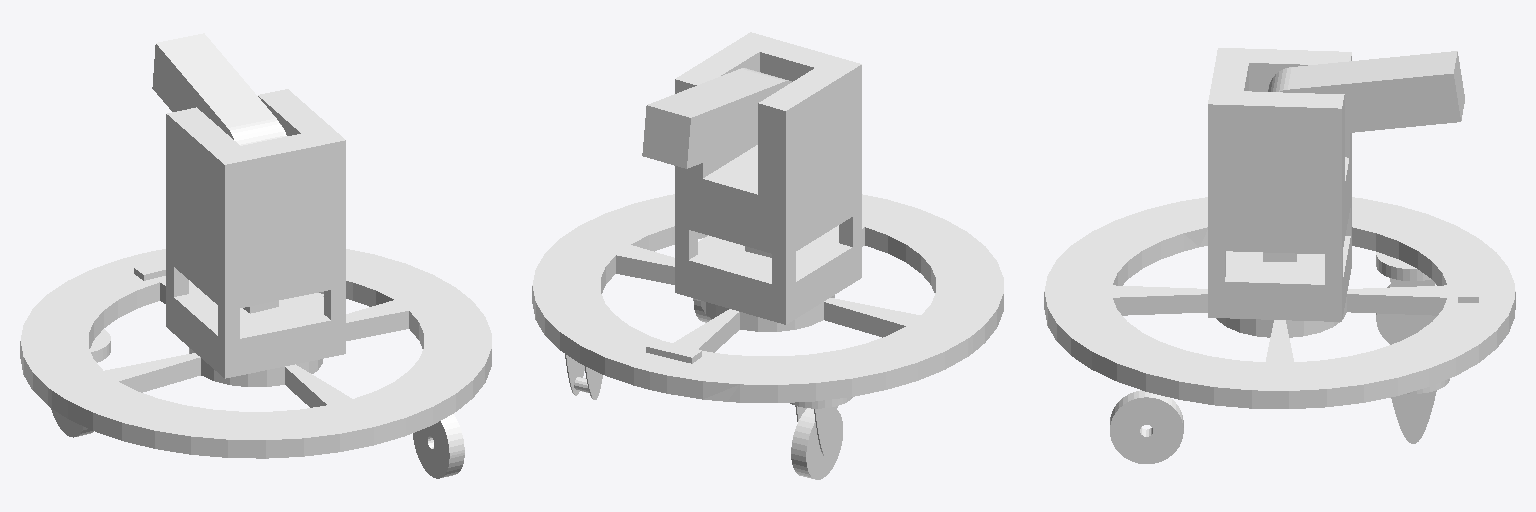
URDF robot description (simplesentry):
<?xml version="1.0" encoding="utf-8"?>
<!-- This URDF was automatically created by SolidWorks to URDF Exporter! Originally created by [author] ([email redacted]) 
     Commit Version: 1.6.0-4-g7f85cfe  Build Version: 1.6.7995.38578
     For more information, please see http://wiki.ros.org/sw_urdf_exporter -->
<robot
  name="simplesentry">
  <link
    name="base_link">
    <inertial>
      <origin
        xyz="2.3351E-07 0.00097091 0.015088"
        rpy="0 0 0" />
      <mass
        value="6.9215" />
      <inertia
        ixx="0.27562"
        ixy="3.4079E-06"
        ixz="-1.9782E-08"
        iyy="0.27371"
        iyz="-0.00013381"
        izz="0.54827" />
    </inertial>
    <visual>
      <origin
        xyz="0 0 0"
        rpy="0 0 0" />
      <geometry>
        <mesh
          filename="package://simplesentry/meshes/base_link.STL" />
      </geometry>
      <material
        name="">
        <color
          rgba="1 1 1 1" />
      </material>
    </visual>
    <collision>
      <origin
        xyz="0 0 0"
        rpy="0 0 0" />
      <geometry>
        <mesh
          filename="package://simplesentry/meshes/base_link.STL" />
      </geometry>
    </collision>
  </link>
  <link
    name="Left_Front_Heading_Link">
    <inertial>
      <origin
        xyz="1.38777878078145E-17 0.00190966111212694 4.81482348435591E-09"
        rpy="0 0 0" />
      <mass
        value="0.222633441059111" />
      <inertia
        ixx="0.000282472342479328"
        ixy="8.75872742714748E-20"
        ixz="-1.53578455491772E-11"
        iyy="0.000299326883261327"
        iyz="9.84844083127423E-11"
        izz="0.000282445233574947" />
    </inertial>
    <visual>
      <origin
        xyz="0 0 0"
        rpy="0 0 0" />
      <geometry>
        <mesh
          filename="package://simplesentry/meshes/Left_Front_Heading_Link.STL" />
      </geometry>
      <material
        name="">
        <color
          rgba="1 1 1 1" />
      </material>
    </visual>
    <collision>
      <origin
        xyz="0 0 0"
        rpy="0 0 0" />
      <geometry>
        <mesh
          filename="package://simplesentry/meshes/Left_Front_Heading_Link.STL" />
      </geometry>
    </collision>
  </link>
  <joint
    name="Left_Front_Heading_Joint"
    type="continuous">
    <origin
      xyz="-0.19796 0.19799 -0.02"
      rpy="1.5708 0 3.1416" />
    <parent
      link="base_link" />
    <child
      link="Left_Front_Heading_Link" />
    <axis
      xyz="0 1 0" />
  </joint>
  <link
    name="Left_Front_Driving_Link">
    <inertial>
      <origin
        xyz="0.013 0 0"
        rpy="0 0 0" />
      <mass
        value="0.238918121305504" />
      <inertia
        ixx="0.000373309564539849"
        ixy="2.69533146699333E-20"
        ixz="-5.87276176762981E-21"
        iyy="0.000200113836436801"
        iyz="-1.19966360820855E-36"
        izz="0.000200113836436801" />
    </inertial>
    <visual>
      <origin
        xyz="0 0 0"
        rpy="0 0 0" />
      <geometry>
        <mesh
          filename="package://simplesentry/meshes/Left_Front_Driving_Link.STL" />
      </geometry>
      <material
        name="">
        <color
          rgba="1 1 1 1" />
      </material>
    </visual>
    <collision>
      <origin
        xyz="0 0 0"
        rpy="0 0 0" />
      <geometry>
        <mesh
          filename="package://simplesentry/meshes/Left_Front_Driving_Link.STL" />
      </geometry>
    </collision>
  </link>
  <joint
    name="Left_Front_Driving_Joint"
    type="continuous">
    <origin
      xyz="-0.013 -0.08 0"
      rpy="0 0 0" />
    <parent
      link="Left_Front_Heading_Link" />
    <child
      link="Left_Front_Driving_Link" />
    <axis
      xyz="1 0 0" />
  </joint>
  <link
    name="Left_Back_Heading_Link">
    <inertial>
      <origin
        xyz="0 0.00190966111212694 4.81482347047812E-09"
        rpy="0 0 0" />
      <mass
        value="0.222633441059111" />
      <inertia
        ixx="0.000282472342479328"
        ixy="7.64054506560717E-20"
        ixz="-1.5357845554744E-11"
        iyy="0.000299326883261327"
        iyz="9.84844082347234E-11"
        izz="0.000282445233574947" />
    </inertial>
    <visual>
      <origin
        xyz="0 0 0"
        rpy="0 0 0" />
      <geometry>
        <mesh
          filename="package://simplesentry/meshes/Left_Back_Heading_Link.STL" />
      </geometry>
      <material
        name="">
        <color
          rgba="1 1 1 1" />
      </material>
    </visual>
    <collision>
      <origin
        xyz="0 0 0"
        rpy="0 0 0" />
      <geometry>
        <mesh
          filename="package://simplesentry/meshes/Left_Back_Heading_Link.STL" />
      </geometry>
    </collision>
  </link>
  <joint
    name="Left_Back_Heading_Joint"
    type="continuous">
    <origin
      xyz="-0.19796 -0.19799 -0.02"
      rpy="1.5708 0 3.1416" />
    <parent
      link="base_link" />
    <child
      link="Left_Back_Heading_Link" />
    <axis
      xyz="0 1 0" />
  </joint>
  <link
    name="Left_Back_Driving_Link">
    <inertial>
      <origin
        xyz="0.013 -1.38777878078145E-17 0"
        rpy="0 0 0" />
      <mass
        value="0.238918121305504" />
      <inertia
        ixx="0.000373309564539849"
        ixy="2.69533146699333E-20"
        ixz="-5.87276176762981E-21"
        iyy="0.000200113836436801"
        iyz="-1.19966360820855E-36"
        izz="0.000200113836436801" />
    </inertial>
    <visual>
      <origin
        xyz="0 0 0"
        rpy="0 0 0" />
      <geometry>
        <mesh
          filename="package://simplesentry/meshes/Left_Back_Driving_Link.STL" />
      </geometry>
      <material
        name="">
        <color
          rgba="1 1 1 1" />
      </material>
    </visual>
    <collision>
      <origin
        xyz="0 0 0"
        rpy="0 0 0" />
      <geometry>
        <mesh
          filename="package://simplesentry/meshes/Left_Back_Driving_Link.STL" />
      </geometry>
    </collision>
  </link>
  <joint
    name="Left_Back_Driving_Joint"
    type="continuous">
    <origin
      xyz="-0.013 -0.08 0"
      rpy="0 0 0" />
    <parent
      link="Left_Back_Heading_Link" />
    <child
      link="Left_Back_Driving_Link" />
    <axis
      xyz="1 0 0" />
  </joint>
  <link
    name="Right_Front_Heading_Link">
    <inertial>
      <origin
        xyz="0 0.00190966111212694 4.81482348435591E-09"
        rpy="0 0 0" />
      <mass
        value="0.222633441059111" />
      <inertia
        ixx="0.000282472342479328"
        ixy="4.48324487369313E-20"
        ixz="-1.5357845556234E-11"
        iyy="0.000299326883261327"
        iyz="9.84844083306066E-11"
        izz="0.000282445233574948" />
    </inertial>
    <visual>
      <origin
        xyz="0 0 0"
        rpy="0 0 0" />
      <geometry>
        <mesh
          filename="package://simplesentry/meshes/Right_Front_Heading_Link.STL" />
      </geometry>
      <material
        name="">
        <color
          rgba="1 1 1 1" />
      </material>
    </visual>
    <collision>
      <origin
        xyz="0 0 0"
        rpy="0 0 0" />
      <geometry>
        <mesh
          filename="package://simplesentry/meshes/Right_Front_Heading_Link.STL" />
      </geometry>
    </collision>
  </link>
  <joint
    name="Right_Front_Heading_Joint"
    type="continuous">
    <origin
      xyz="0.19802 0.19799 -0.02"
      rpy="1.5708 0 3.1416" />
    <parent
      link="base_link" />
    <child
      link="Right_Front_Heading_Link" />
    <axis
      xyz="0 1 0" />
  </joint>
  <link
    name="Right_Front_Driving_Link">
    <inertial>
      <origin
        xyz="0.0130000000000001 1.38777878078145E-17 0"
        rpy="0 0 0" />
      <mass
        value="0.238918121305504" />
      <inertia
        ixx="0.00037330956453985"
        ixy="2.69533146699333E-20"
        ixz="-5.87276176762982E-21"
        iyy="0.000200113836436802"
        iyz="3.50231379508061E-36"
        izz="0.000200113836436802" />
    </inertial>
    <visual>
      <origin
        xyz="0 0 0"
        rpy="0 0 0" />
      <geometry>
        <mesh
          filename="package://simplesentry/meshes/Right_Front_Driving_Link.STL" />
      </geometry>
      <material
        name="">
        <color
          rgba="1 1 1 1" />
      </material>
    </visual>
    <collision>
      <origin
        xyz="0 0 0"
        rpy="0 0 0" />
      <geometry>
        <mesh
          filename="package://simplesentry/meshes/Right_Front_Driving_Link.STL" />
      </geometry>
    </collision>
  </link>
  <joint
    name="Right_Front_Driving_Joint"
    type="continuous">
    <origin
      xyz="-0.013 -0.08 0"
      rpy="0 0 0" />
    <parent
      link="Right_Front_Heading_Link" />
    <child
      link="Right_Front_Driving_Link" />
    <axis
      xyz="1 0 0" />
  </joint>
  <link
    name="Right_Back_Heading_Link">
    <inertial>
      <origin
        xyz="0 0.00190966111212693 4.81482345660034E-09"
        rpy="0 0 0" />
      <mass
        value="0.222633441059111" />
      <inertia
        ixx="0.000282472342479328"
        ixy="2.46591602827902E-20"
        ixz="-1.53578455521235E-11"
        iyy="0.000299326883261327"
        iyz="9.84844082287288E-11"
        izz="0.000282445233574948" />
    </inertial>
    <visual>
      <origin
        xyz="0 0 0"
        rpy="0 0 0" />
      <geometry>
        <mesh
          filename="package://simplesentry/meshes/Right_Back_Heading_Link.STL" />
      </geometry>
      <material
        name="">
        <color
          rgba="1 1 1 1" />
      </material>
    </visual>
    <collision>
      <origin
        xyz="0 0 0"
        rpy="0 0 0" />
      <geometry>
        <mesh
          filename="package://simplesentry/meshes/Right_Back_Heading_Link.STL" />
      </geometry>
    </collision>
  </link>
  <joint
    name="Right_Back_Heading_Joint"
    type="continuous">
    <origin
      xyz="0.19802 -0.19799 -0.02"
      rpy="1.5708 0 3.1416" />
    <parent
      link="base_link" />
    <child
      link="Right_Back_Heading_Link" />
    <axis
      xyz="0 1 0" />
  </joint>
  <link
    name="Right_Back_Driving_Link">
    <inertial>
      <origin
        xyz="0.0130000000000001 1.38777878078145E-17 0"
        rpy="0 0 0" />
      <mass
        value="0.238918121305504" />
      <inertia
        ixx="0.00037330956453985"
        ixy="2.69533146699333E-20"
        ixz="-5.87276176762982E-21"
        iyy="0.000200113836436802"
        iyz="3.50231379508061E-36"
        izz="0.000200113836436802" />
    </inertial>
    <visual>
      <origin
        xyz="0 0 0"
        rpy="0 0 0" />
      <geometry>
        <mesh
          filename="package://simplesentry/meshes/Right_Back_Driving_Link.STL" />
      </geometry>
      <material
        name="">
        <color
          rgba="1 1 1 1" />
      </material>
    </visual>
    <collision>
      <origin
        xyz="0 0 0"
        rpy="0 0 0" />
      <geometry>
        <mesh
          filename="package://simplesentry/meshes/Right_Back_Driving_Link.STL" />
      </geometry>
    </collision>
  </link>
  <joint
    name="Right_Back_Driving_Joint"
    type="continuous">
    <origin
      xyz="-0.013 -0.08 0"
      rpy="0 0 0" />
    <parent
      link="Right_Back_Heading_Link" />
    <child
      link="Right_Back_Driving_Link" />
    <axis
      xyz="1 0 0" />
  </joint>
  <link
    name="Yaw_Link">
    <inertial>
      <origin
        xyz="-0.000382893451164545 -0.00504114565025875 0.10698800887067"
        rpy="0 0 0" />
      <mass
        value="10.3493804906921" />
      <inertia
        ixx="0.149218627722498"
        ixy="0.000307277659773353"
        ixz="0.000417481332867916"
        iyy="0.153240882832408"
        iyz="0.00549652703343564"
        izz="0.0747791685099092" />
    </inertial>
    <visual>
      <origin
        xyz="0 0 0"
        rpy="0 0 0" />
      <geometry>
        <mesh
          filename="package://simplesentry/meshes/Yaw_Link.STL" />
      </geometry>
      <material
        name="">
        <color
          rgba="1 1 1 1" />
      </material>
    </visual>
    <collision>
      <origin
        xyz="0 0 0"
        rpy="0 0 0" />
      <geometry>
        <mesh
          filename="package://simplesentry/meshes/Yaw_Link.STL" />
      </geometry>
    </collision>
  </link>
  <joint
    name="Yaw_Joint"
    type="continuous">
    <origin
      xyz="3.2896E-05 0 0.09"
      rpy="0 0 0" />
    <parent
      link="base_link" />
    <child
      link="Yaw_Link" />
    <axis
      xyz="0 0 -1" />
  </joint>
  <link
    name="Pitch_Link">
    <inertial>
      <origin
        xyz="-0.00896541138540202 0.0169097992328111 0.118037914910391"
        rpy="0 0 0" />
      <mass
        value="1.64398229715026" />
      <inertia
        ixx="0.00813629688390596"
        ixy="6.73637561202836E-05"
        ixz="0.000472677544890049"
        iyy="0.00801271880973763"
        iyz="-0.00088690601815744"
        izz="0.00194896236802813" />
    </inertial>
    <visual>
      <origin
        xyz="0 0 0"
        rpy="0 0 0" />
      <geometry>
        <mesh
          filename="package://simplesentry/meshes/Pitch_Link.STL" />
      </geometry>
      <material
        name="">
        <color
          rgba="1 1 1 1" />
      </material>
    </visual>
    <collision>
      <origin
        xyz="0 0 0"
        rpy="0 0 0" />
      <geometry>
        <mesh
          filename="package://simplesentry/meshes/Pitch_Link.STL" />
      </geometry>
    </collision>
  </link>
  <joint
    name="Pitch_Joint"
    type="continuous">
    <origin
      xyz="0.0015147 0.019943 0.25044"
      rpy="1.5708 0 3.1416" />
    <parent
      link="Yaw_Link" />
    <child
      link="Pitch_Link" />
    <axis
      xyz="0.99713 0 0.075736" />
  </joint>
  <link
    name="Laser_Imu_link">
    <inertial>
      <origin
        xyz="-6.93889390390723E-17 -3.46944695195361E-16 0.0255156136079572"
        rpy="0 0 0" />
      <mass
        value="0.12185840734641" />
      <inertia
        ixx="5.06895795583208E-05"
        ixy="-1.44560289664713E-21"
        ixz="1.27975279084585E-21"
        iyy="5.06895795583208E-05"
        iyz="5.69889882490571E-21"
        izz="5.19262537006539E-05" />
    </inertial>
    <visual>
      <origin
        xyz="0 0 0"
        rpy="0 0 0" />
      <geometry>
        <mesh
          filename="package://simplesentry/meshes/Laser_Imu_link.STL" />
      </geometry>
      <material
        name="">
        <color
          rgba="1 1 1 1" />
      </material>
    </visual>
    <collision>
      <origin
        xyz="0 0 0"
        rpy="0 0 0" />
      <geometry>
        <mesh
          filename="package://simplesentry/meshes/Laser_Imu_link.STL" />
      </geometry>
    </collision>
  </link>
  <joint
    name="Laser_Imu_Joint"
    type="fixed">
    <origin
      xyz="0 0 0"
      rpy="0 0 0" />
    <parent
      link="Yaw_Link" />
    <child
      link="Laser_Imu_link" />
    <axis
      xyz="0 0 0" />
  </joint>
</robot>

--- Render facts (derived) ---
3 views of the same robot in one strip: view 1: azimuth 30°, elevation 25°; view 2: azimuth 150°, elevation 25°; view 3: azimuth 270°, elevation 25° (orthographic).
Robot: simplesentry — 12 links, 11 joints (10 continuous, 1 fixed); root link base_link; default pose: every joint at zero.
Links seen in each view (by area): view 1: base_link, Yaw_Link, Pitch_Link, Right_Back_Driving_Link; view 2: base_link, Yaw_Link, Pitch_Link, Left_Front_Driving_Link, Left_Front_Heading_Link, Right_Front_Heading_Link; view 3: base_link, Yaw_Link, Pitch_Link, Right_Back_Driving_Link, Right_Front_Heading_Link, Left_Front_Heading_Link, Left_Front_Driving_Link.
Link boxes in pixels (bbox=[...]): base_link: bbox=[20, 249, 491, 458]; Yaw_Link: bbox=[166, 89, 345, 378]; Pitch_Link: bbox=[152, 33, 284, 145]; Right_Back_Driving_Link: bbox=[413, 414, 464, 478]; base_link: bbox=[532, 194, 1003, 402]; Yaw_Link: bbox=[675, 32, 861, 324]; Pitch_Link: bbox=[642, 68, 791, 168]; Left_Front_Driving_Link: bbox=[791, 408, 842, 479]; Left_Front_Heading_Link: bbox=[790, 397, 852, 456]; Right_Front_Heading_Link: bbox=[565, 316, 618, 399]; base_link: bbox=[1044, 197, 1515, 408]; Yaw_Link: bbox=[1208, 48, 1351, 321]; Pitch_Link: bbox=[1268, 51, 1464, 132]; Right_Back_Driving_Link: bbox=[1110, 390, 1183, 463]; Right_Front_Heading_Link: bbox=[1391, 379, 1449, 443]; Left_Front_Heading_Link: bbox=[1376, 252, 1435, 331]; Left_Front_Driving_Link: bbox=[1376, 284, 1436, 344].
Size in the robot's own frame: 0.6997 by 0.7 by 0.5703 metres.
8 mesh visuals loaded from 12 distinct referenced files (8 binary STL); not drawn: 4 (reference not matched to a file when rendering).